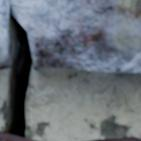brick: (0, 133, 34, 140), (94, 137, 140, 140)
broken_brick: (0, 0, 140, 73)
crack: (0, 2, 34, 138)
